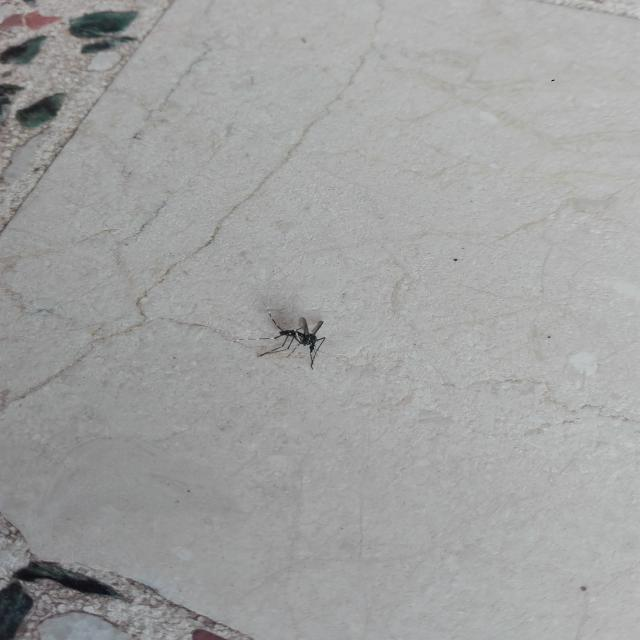albopictus: (235, 300, 336, 372)
